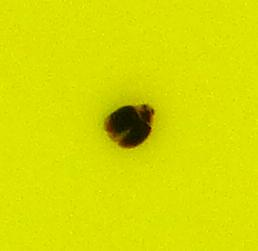Coleoptera: (100, 100, 158, 151)
